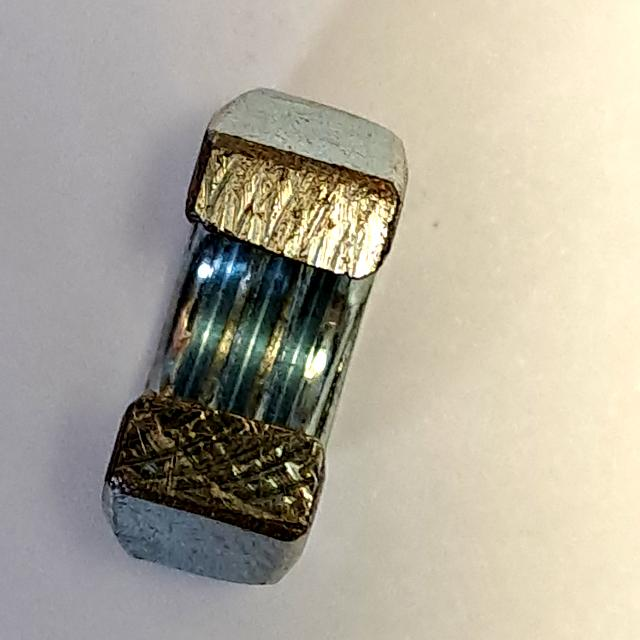Side-Fracture: (92, 72, 420, 600)
